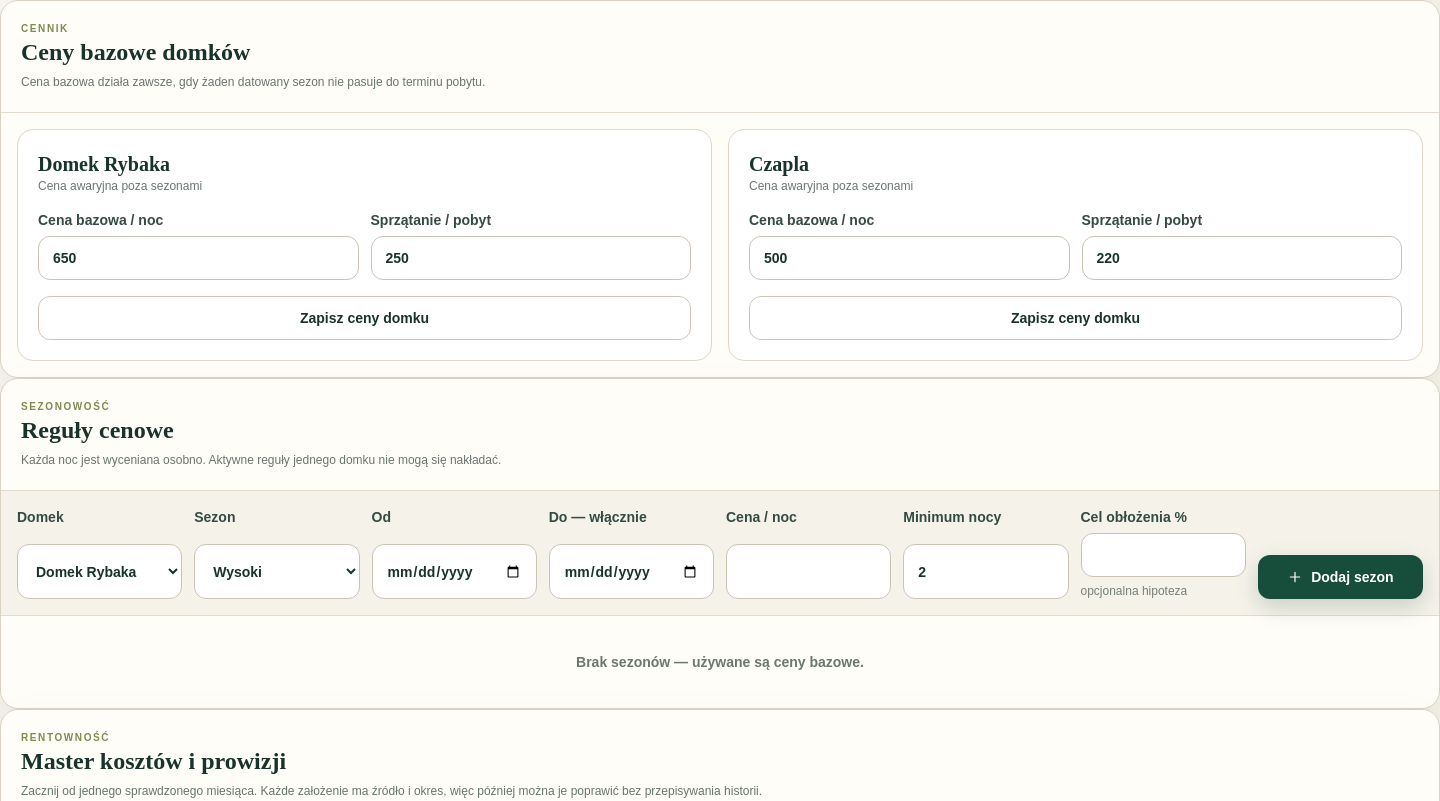
Test: PricingSettings — trwałe reguły cenowe › używa pierwszego domku także wtedy, gdy dane dotarły po pierwszym renderze
Type "2030-06-01" into the date field labelled "Od" at (454, 572), box [372,544,537,599]
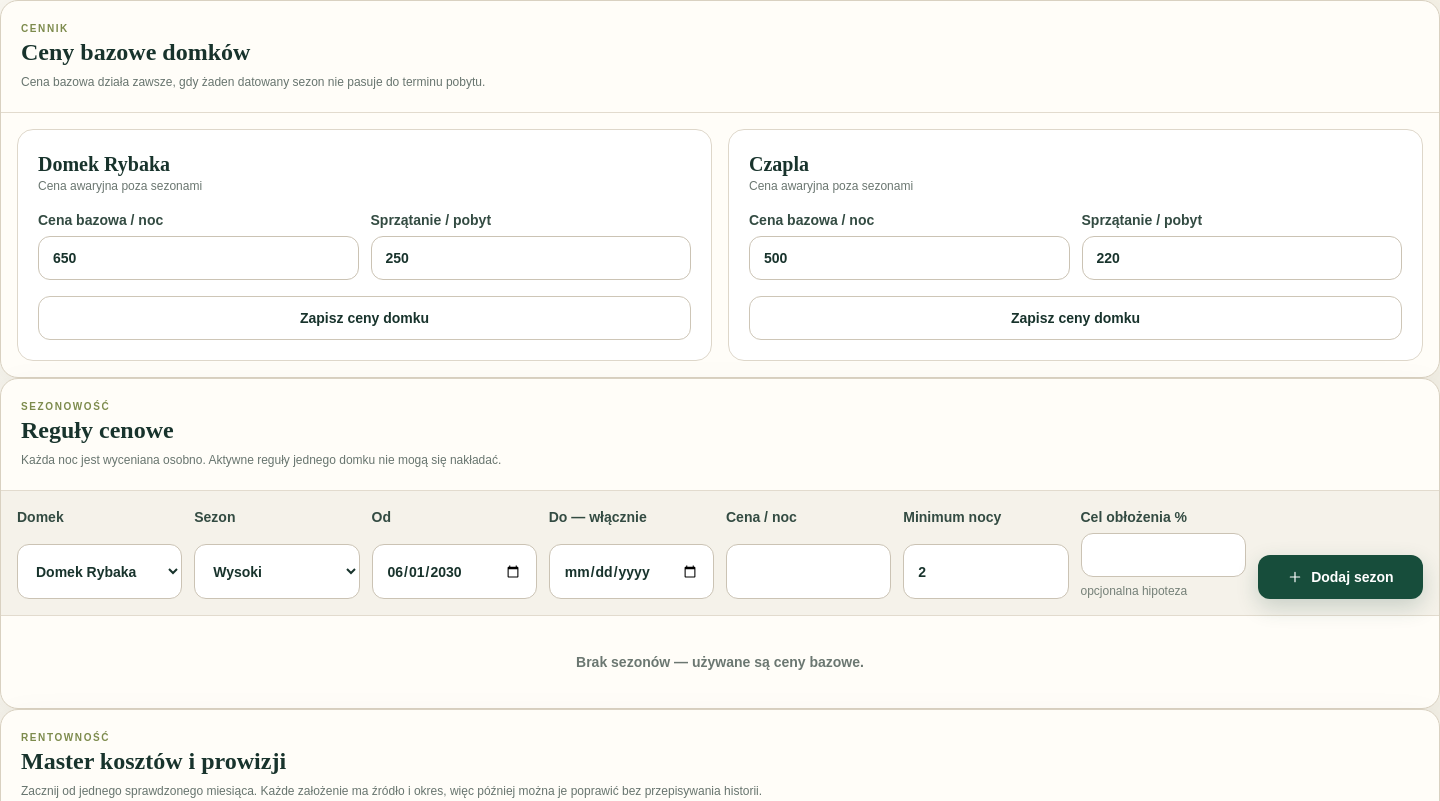
Type "2030-06-10" into the date field labelled "Do — włącznie" at (631, 572), box [549,544,714,599]
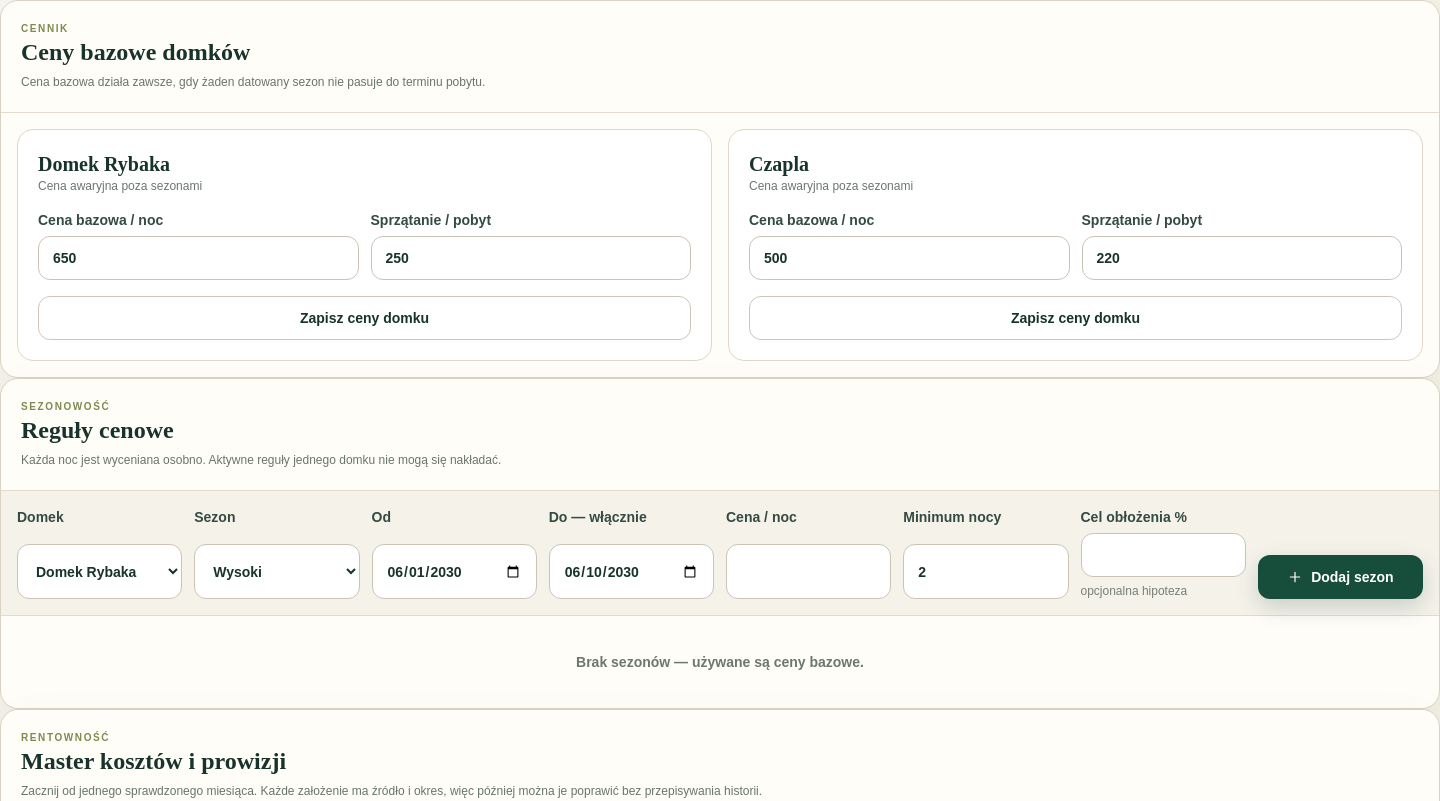
Type "620" into the number field labelled "Cena / noc" at (809, 572), box [726,544,891,599]
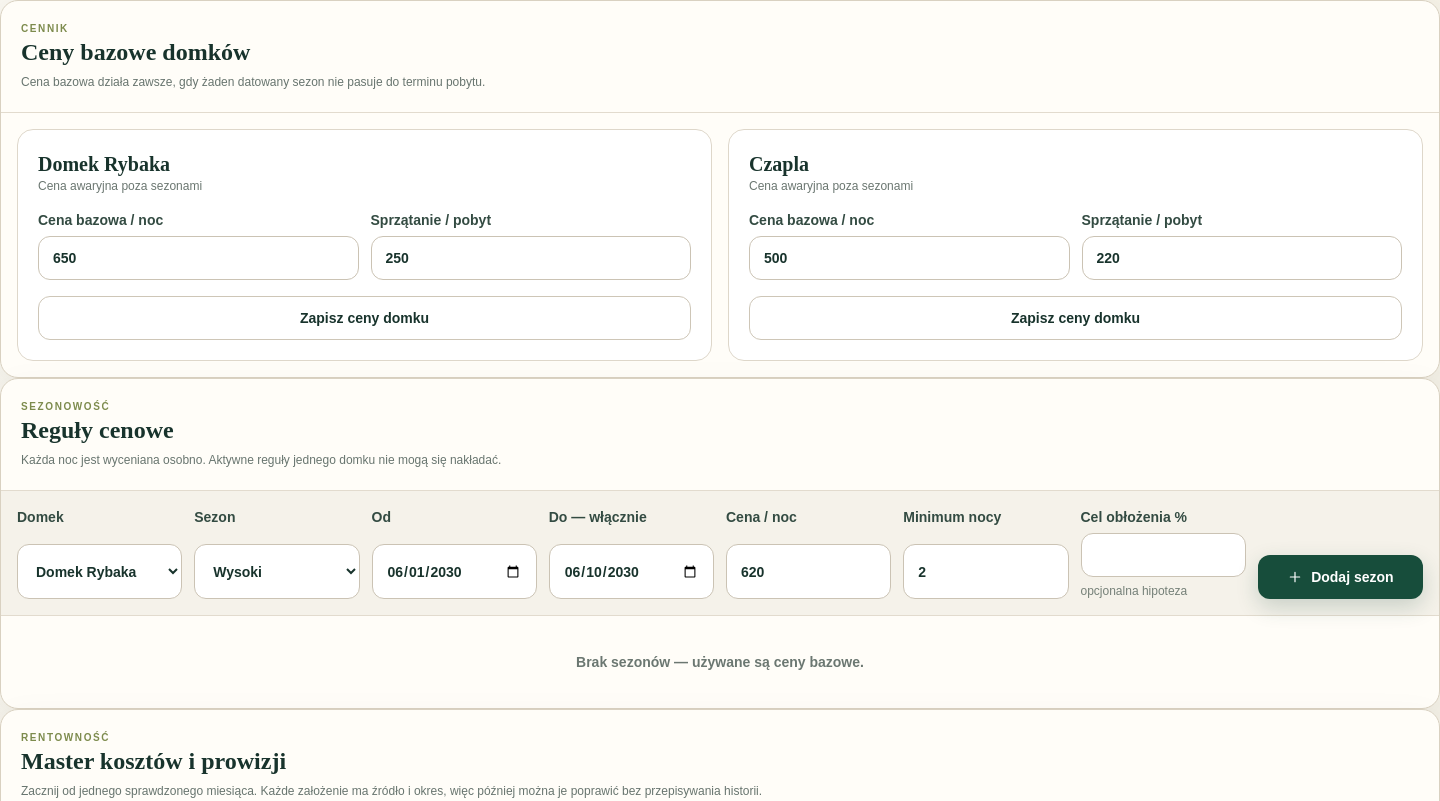
Click the button "Dodaj sezon" at (1340, 577), box [1258,555,1423,599]
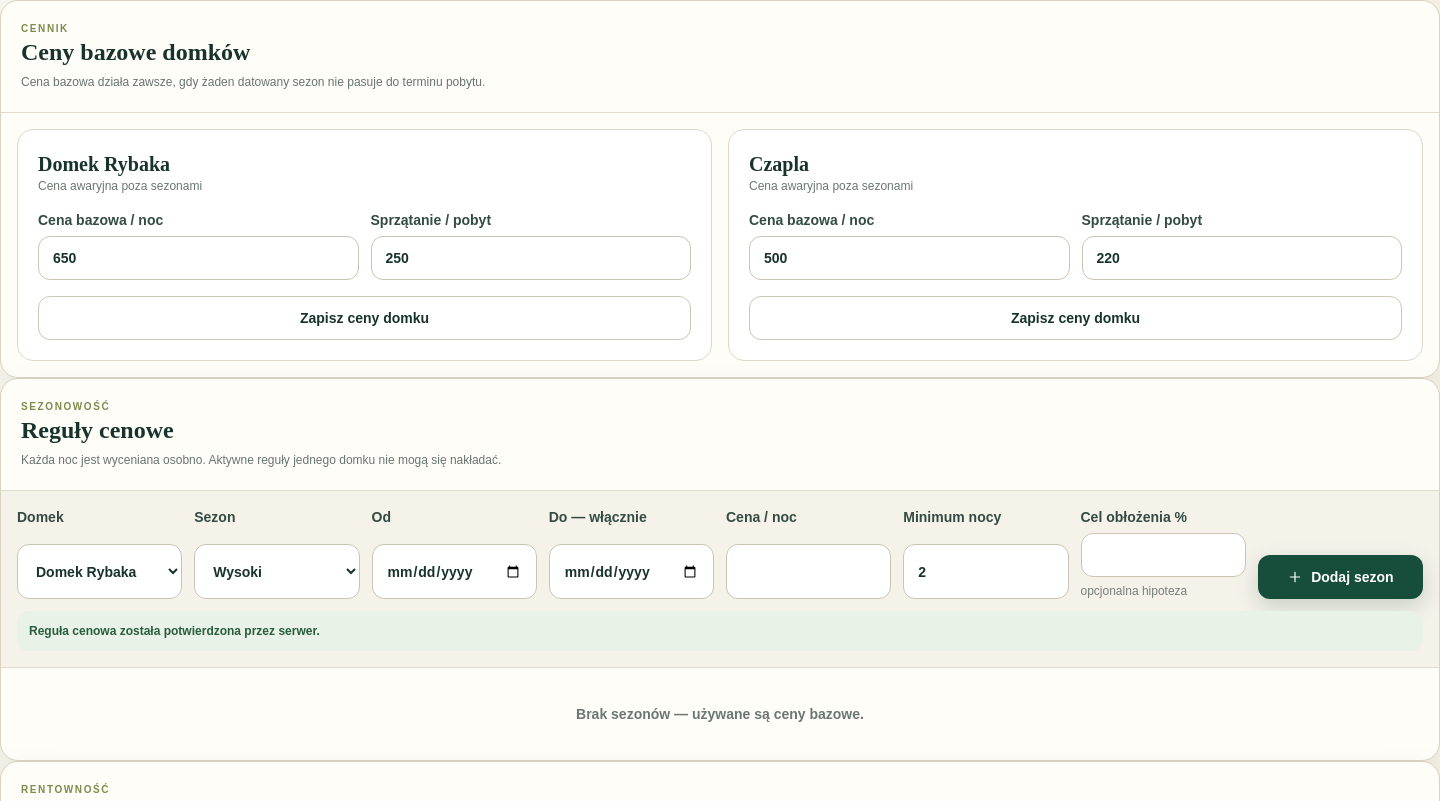
Expected: the text "Reguła cenowa została potwierdzona przez serwer." is shown, [17,611,1423,651]
